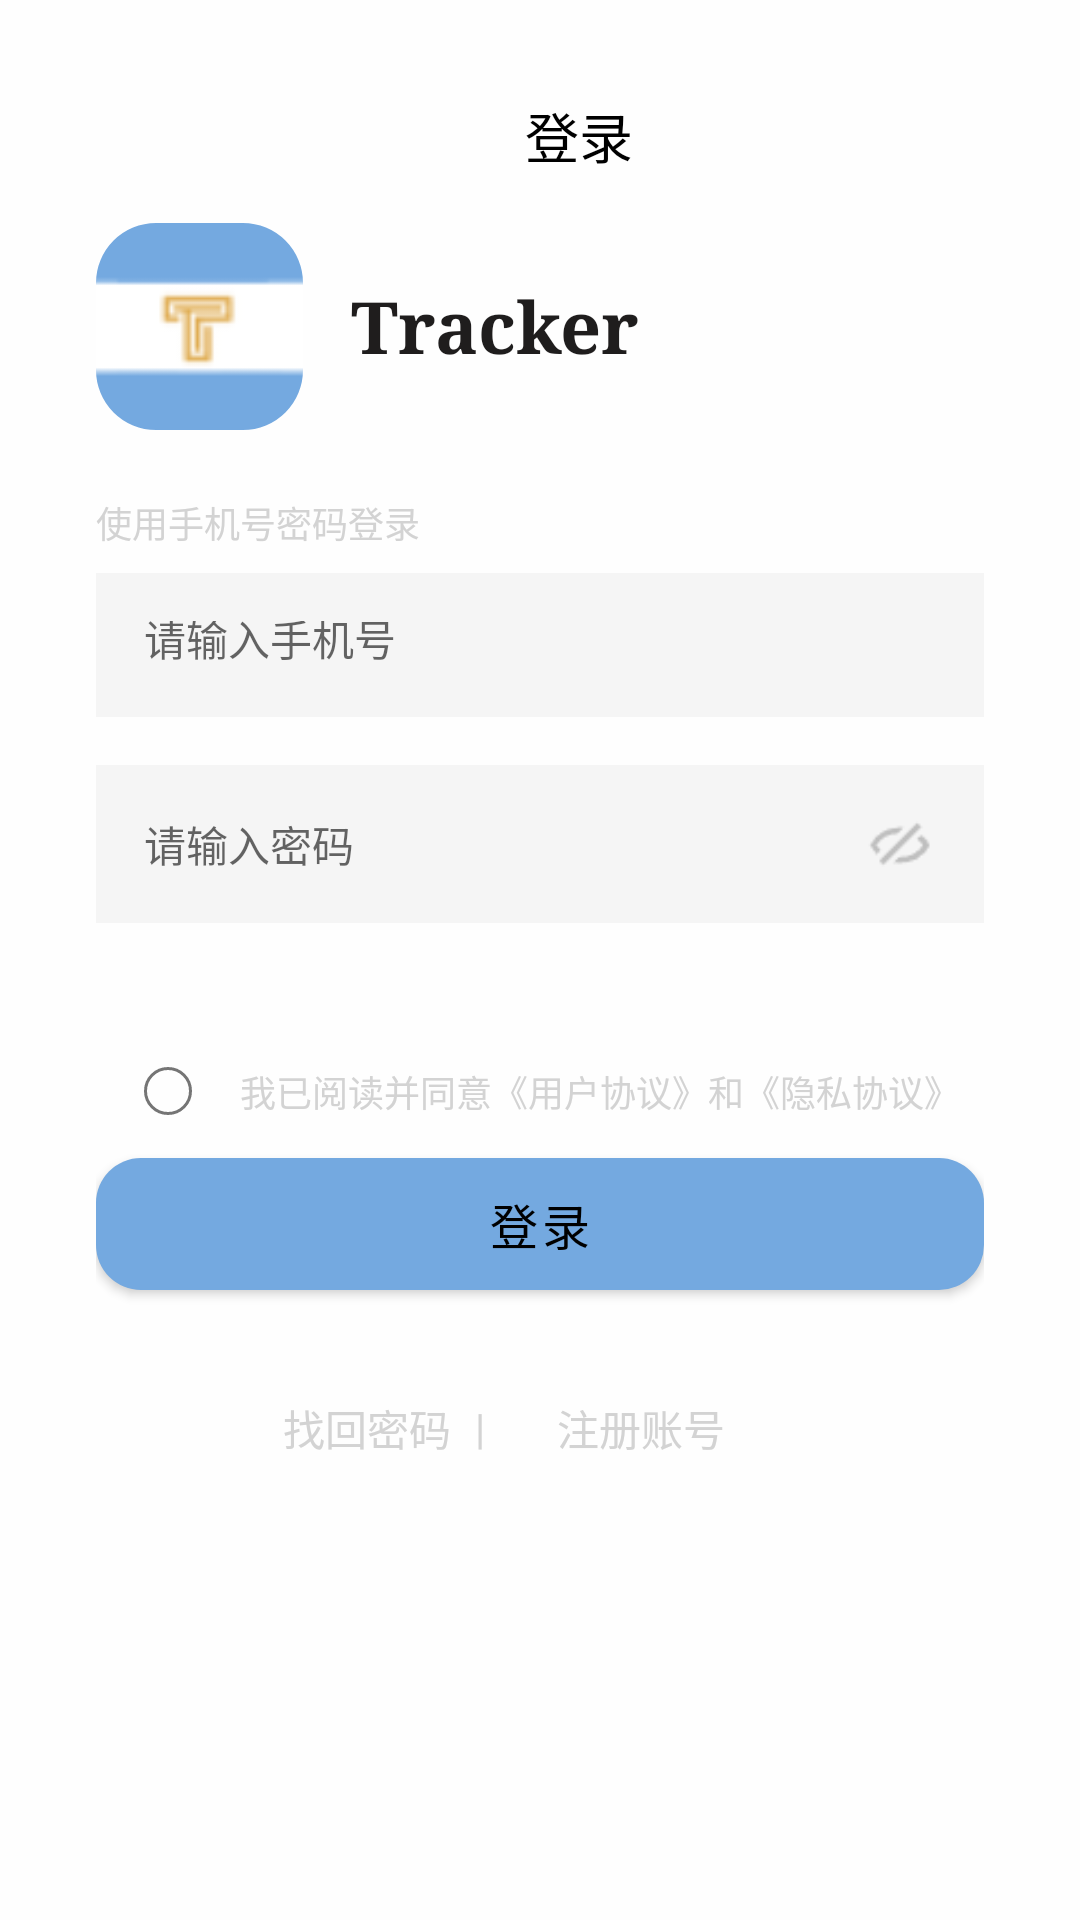

Icons on this 1080px x 1920px Android screen, each with its box as (x1,y1,x2,y2):
眼睛图标: (871,824,929,864)
